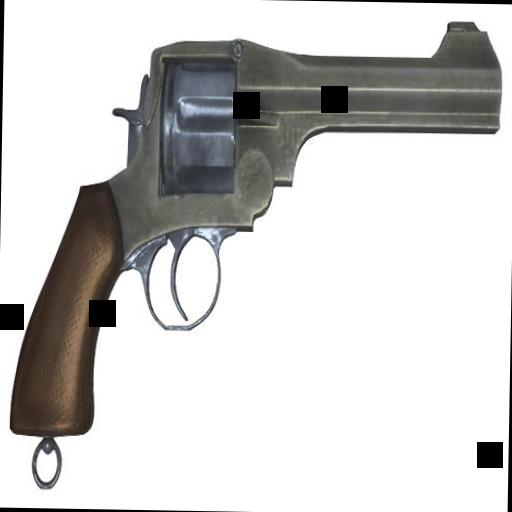Handgun: (18, 9, 498, 471)
